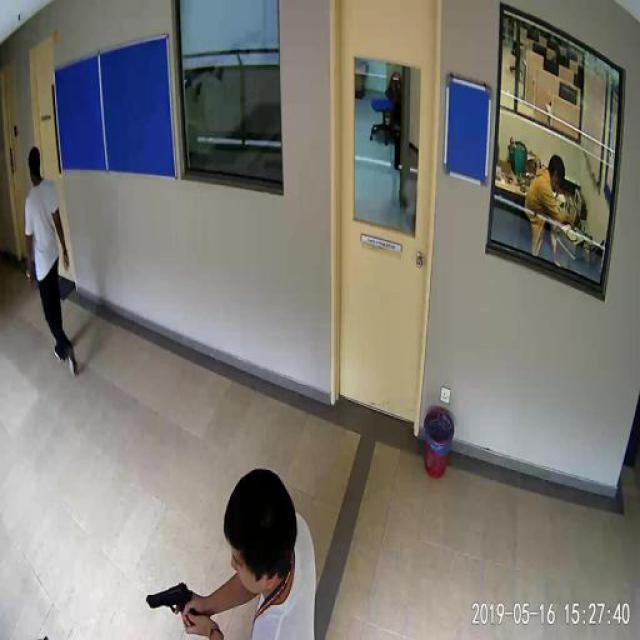weapon: (143, 579, 210, 627)
